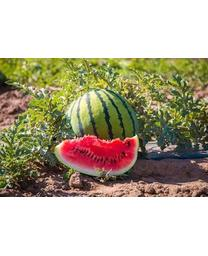watermelon: (55, 91, 140, 176)
